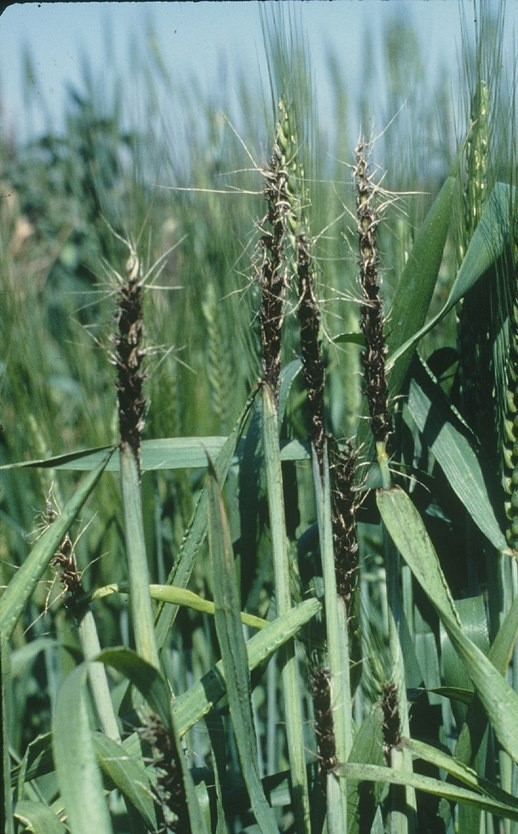Wheat Loose Smut: (233, 176, 416, 473), (93, 247, 164, 450)
